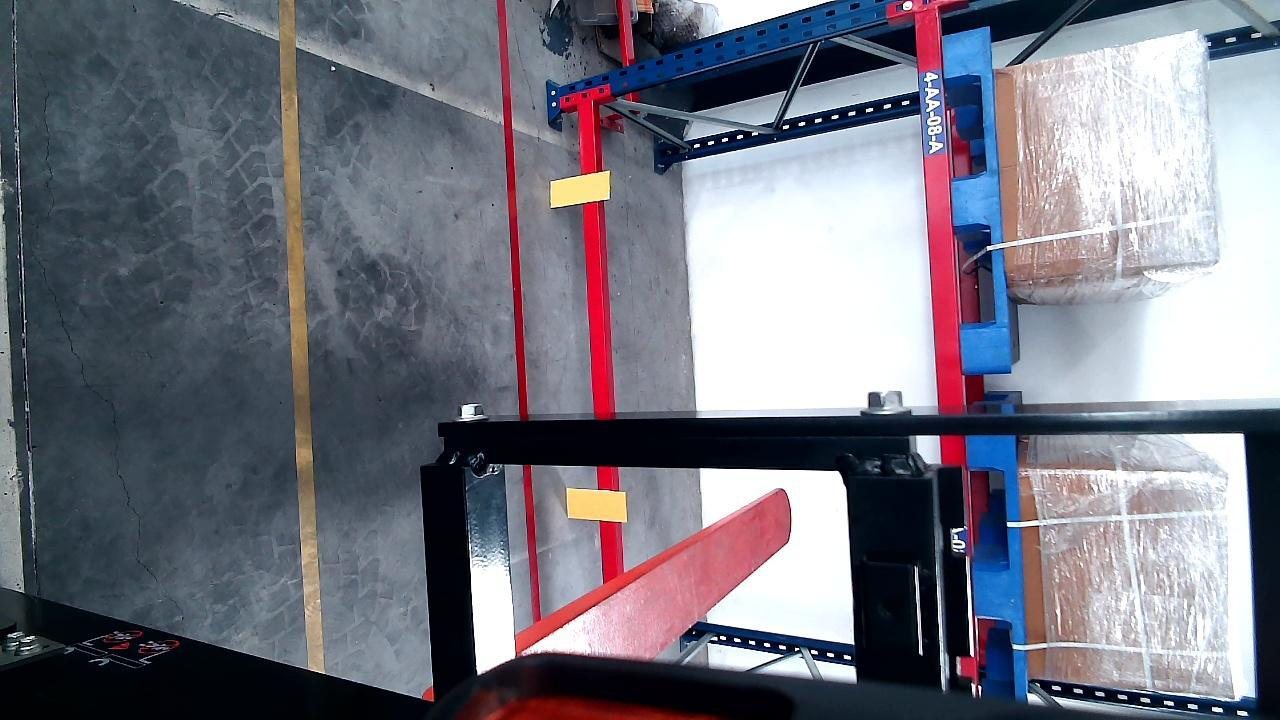red_line: (498, 7, 527, 412)
yellow_line: (279, 0, 324, 676)
